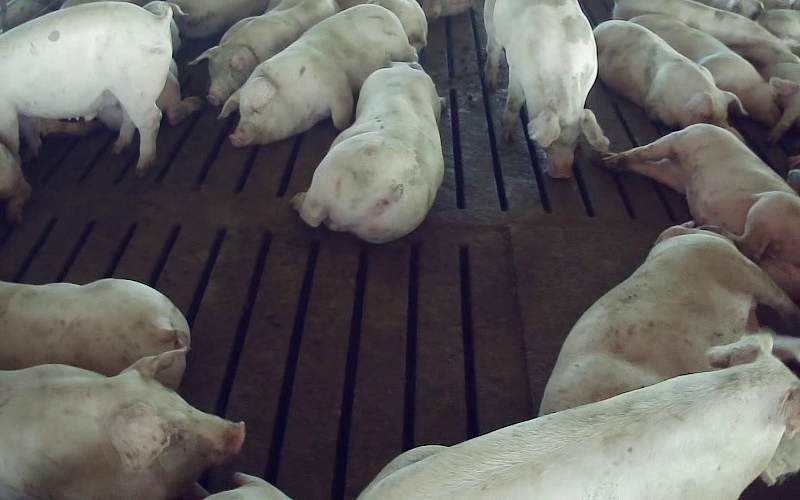pig: (360, 334, 799, 499), (539, 226, 796, 413), (0, 351, 244, 499), (221, 5, 416, 146), (292, 63, 443, 242), (484, 0, 608, 177), (0, 279, 189, 389), (630, 14, 799, 125), (594, 20, 740, 127)
